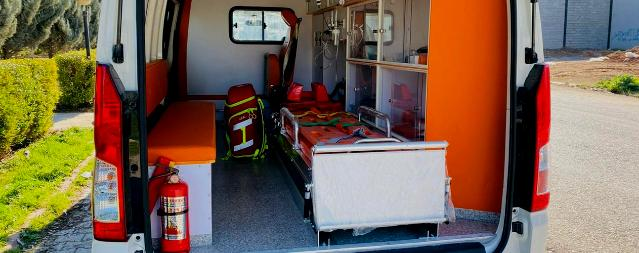ambulance: (91, 0, 550, 253)
